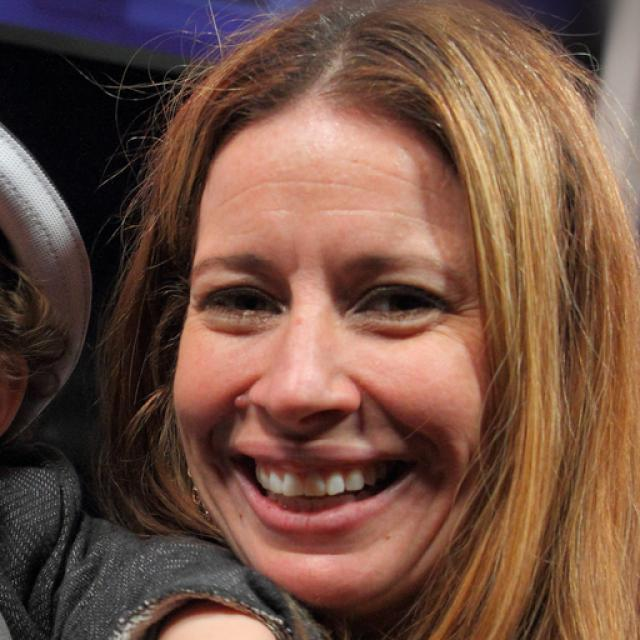Wrinkle: (318, 199, 441, 236)
